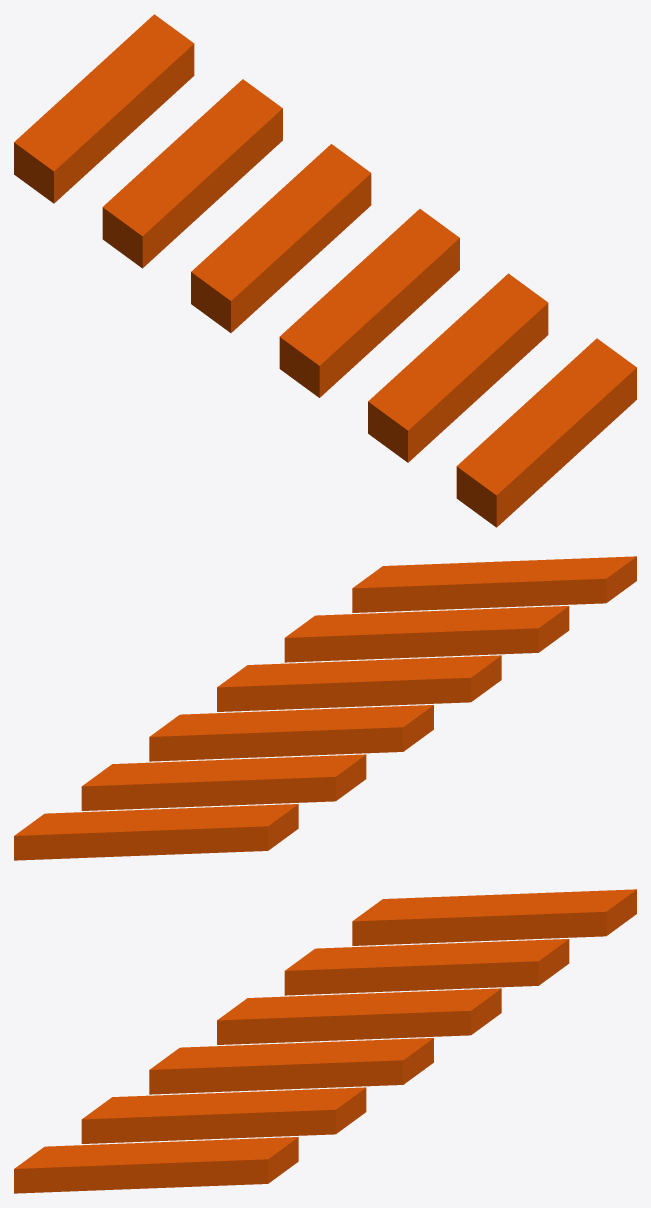
Rendered from Block_03.FBX.
3 renders of one model, top to bottom at view 1: azimuth 30°, elevation 25°; view 2: azimuth 150°, elevation 25°; view 3: azimuth 330°, elevation 25°, orthographic. The views are drawn at different scales.
Visible parts, largest first — view 1: Block_03; view 2: Block_03; view 3: Block_03.
Boxes of the visible parts, bbox=[...] form: Block_03: bbox=[14, 14, 636, 527]; Block_03: bbox=[14, 556, 636, 860]; Block_03: bbox=[14, 889, 636, 1193].
Bounding box in the file's own units: 7.08 × 0.9212 × 30.
